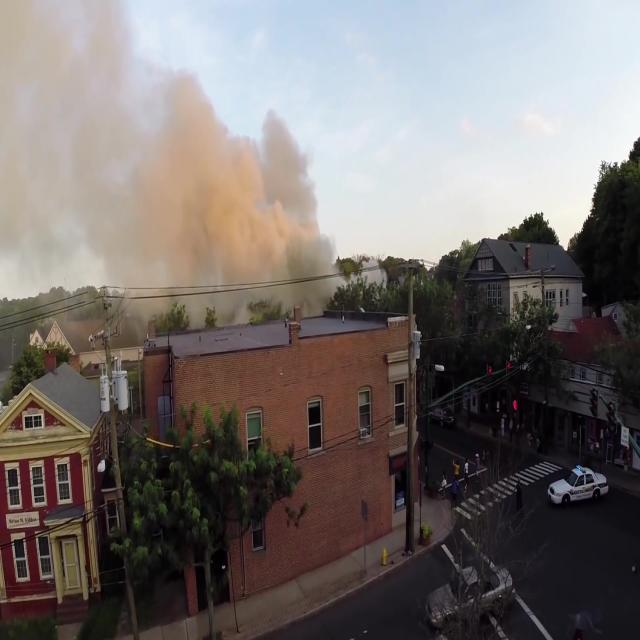smoke: (145, 147, 322, 287)
